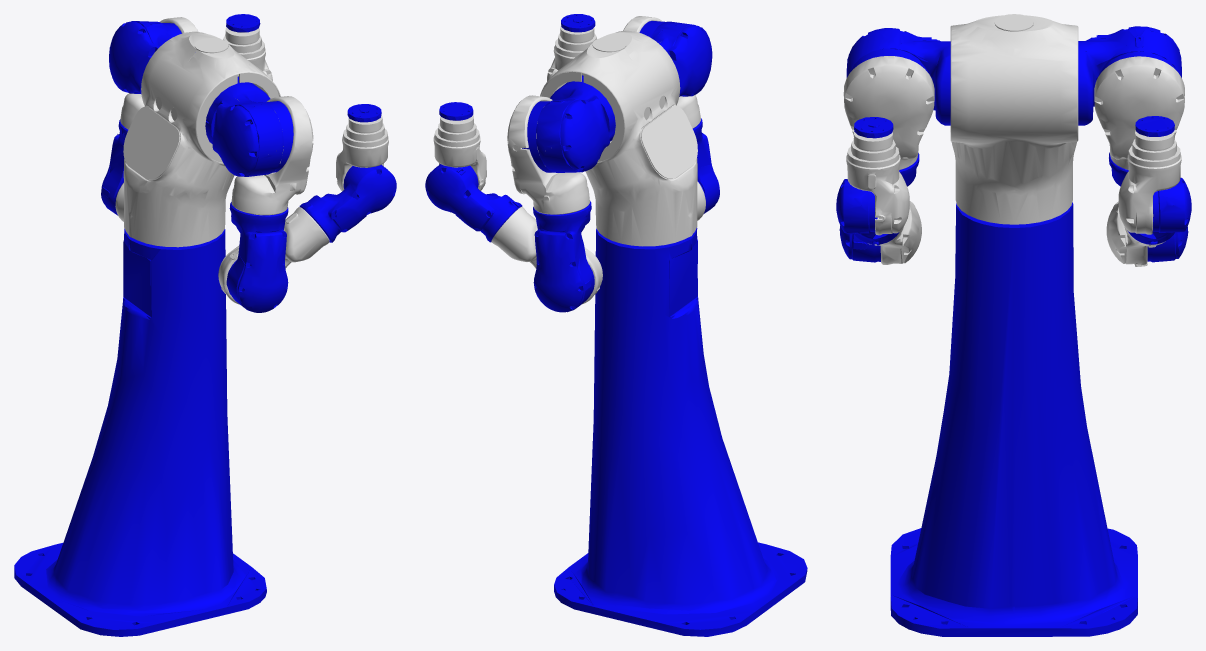
Rendered from a12sample.gltf.
3 renders of one model, left to right at view 1: azimuth 30°, elevation 25°; view 2: azimuth 150°, elevation 25°; view 3: azimuth 270°, elevation 25°, orthographic. The views are drawn at different scales.
Parts seen in each view (by area): view 1: visual_0_torso_base_link, visual_0_torso_link_b1, visual_0_arm_right_link_1_s, visual_0_arm_right_link_3_e, visual_0_arm_right_link_2_l, visual_0_arm_right_link_5_r, visual_0_arm_left_link_1_s, visual_0_arm_right_link_6_b, visual_0_arm_right_link_4_u, visual_0_arm_left_link_3_e, visual_0_arm_left_link_6_b, visual_0_arm_left_link_2_l (+2 smaller); view 2: visual_0_torso_base_link, visual_0_torso_link_b1, visual_0_arm_left_link_1_s, visual_0_arm_left_link_3_e, visual_0_arm_left_link_2_l, visual_0_arm_left_link_5_r, visual_0_arm_right_link_1_s, visual_0_arm_left_link_6_b, visual_0_arm_left_link_4_u, visual_0_arm_right_link_3_e, visual_0_arm_right_link_6_b, visual_0_arm_right_link_2_l (+2 smaller); view 3: visual_0_torso_base_link, visual_0_torso_link_b1, visual_0_arm_right_link_2_l, visual_0_arm_left_link_2_l, visual_0_arm_left_link_6_b, visual_0_arm_right_link_6_b, visual_0_arm_left_link_1_s, visual_0_arm_right_link_1_s, visual_0_arm_left_link_5_r, visual_0_arm_right_link_5_r, visual_0_arm_left_link_4_u, visual_0_arm_right_link_4_u (+4 smaller).
Part boxes in pixels (box(x1,y1,x2,y2)): visual_0_torso_base_link: box(14, 228, 266, 636); visual_0_torso_link_b1: box(123, 31, 280, 247); visual_0_arm_right_link_1_s: box(205, 76, 293, 176); visual_0_arm_right_link_3_e: box(226, 202, 288, 312); visual_0_arm_right_link_2_l: box(231, 96, 313, 215); visual_0_arm_right_link_5_r: box(299, 164, 396, 242); visual_0_arm_left_link_1_s: box(109, 21, 181, 93); visual_0_arm_right_link_6_b: box(336, 115, 388, 191); visual_0_arm_right_link_4_u: box(218, 207, 329, 304); visual_0_arm_left_link_3_e: box(101, 119, 128, 215); visual_0_arm_left_link_6_b: box(223, 27, 272, 81); visual_0_arm_left_link_2_l: box(120, 17, 197, 129); visual_0_torso_base_link: box(554, 228, 807, 636); visual_0_torso_link_b1: box(540, 30, 697, 246); visual_0_arm_left_link_1_s: box(522, 75, 615, 172); visual_0_arm_left_link_3_e: box(533, 201, 594, 312); visual_0_arm_left_link_2_l: box(507, 95, 589, 214); visual_0_arm_left_link_5_r: box(425, 164, 522, 242); visual_0_arm_right_link_1_s: box(639, 20, 712, 96); visual_0_arm_left_link_6_b: box(433, 115, 486, 190); visual_0_arm_left_link_4_u: box(491, 207, 602, 304); visual_0_arm_right_link_3_e: box(693, 118, 719, 214); visual_0_arm_right_link_6_b: box(547, 25, 597, 81); visual_0_arm_right_link_2_l: box(623, 16, 700, 128); visual_0_torso_base_link: box(890, 202, 1137, 636); visual_0_torso_link_b1: box(950, 14, 1078, 224); visual_0_arm_right_link_2_l: box(843, 56, 934, 169); visual_0_arm_left_link_2_l: box(1094, 56, 1184, 169); visual_0_arm_left_link_6_b: box(1118, 130, 1181, 234); visual_0_arm_right_link_6_b: box(846, 132, 909, 235); visual_0_arm_left_link_1_s: box(1078, 26, 1181, 125); visual_0_arm_right_link_1_s: box(846, 28, 950, 125); visual_0_arm_left_link_5_r: box(1127, 177, 1191, 244); visual_0_arm_right_link_5_r: box(836, 179, 899, 245); visual_0_arm_left_link_4_u: box(1106, 201, 1165, 266); visual_0_arm_right_link_4_u: box(868, 201, 921, 264).
Size of the model in its own units: 7.52 by 13.43 by 7.18.
